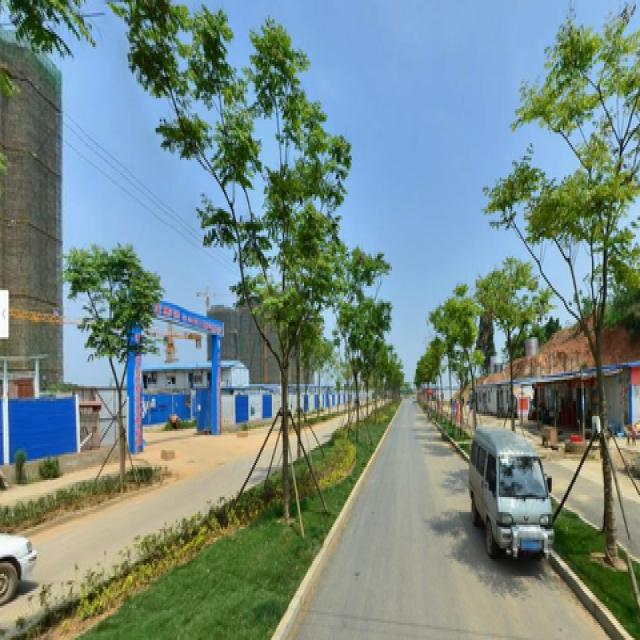koel: (212, 32, 355, 525)
